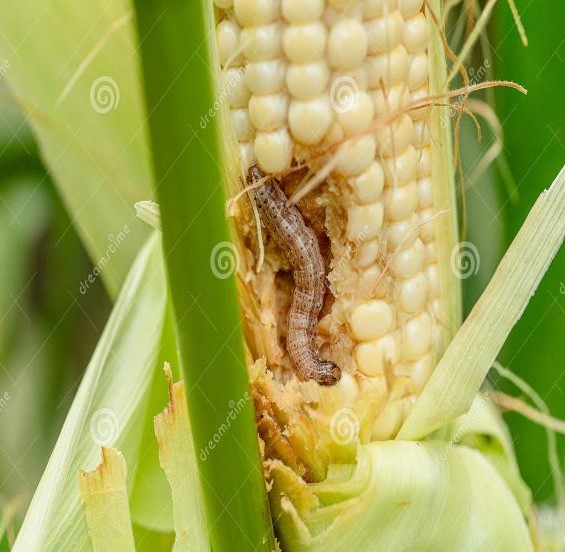yellow-stem-borer-larva: (230, 160, 351, 387)
